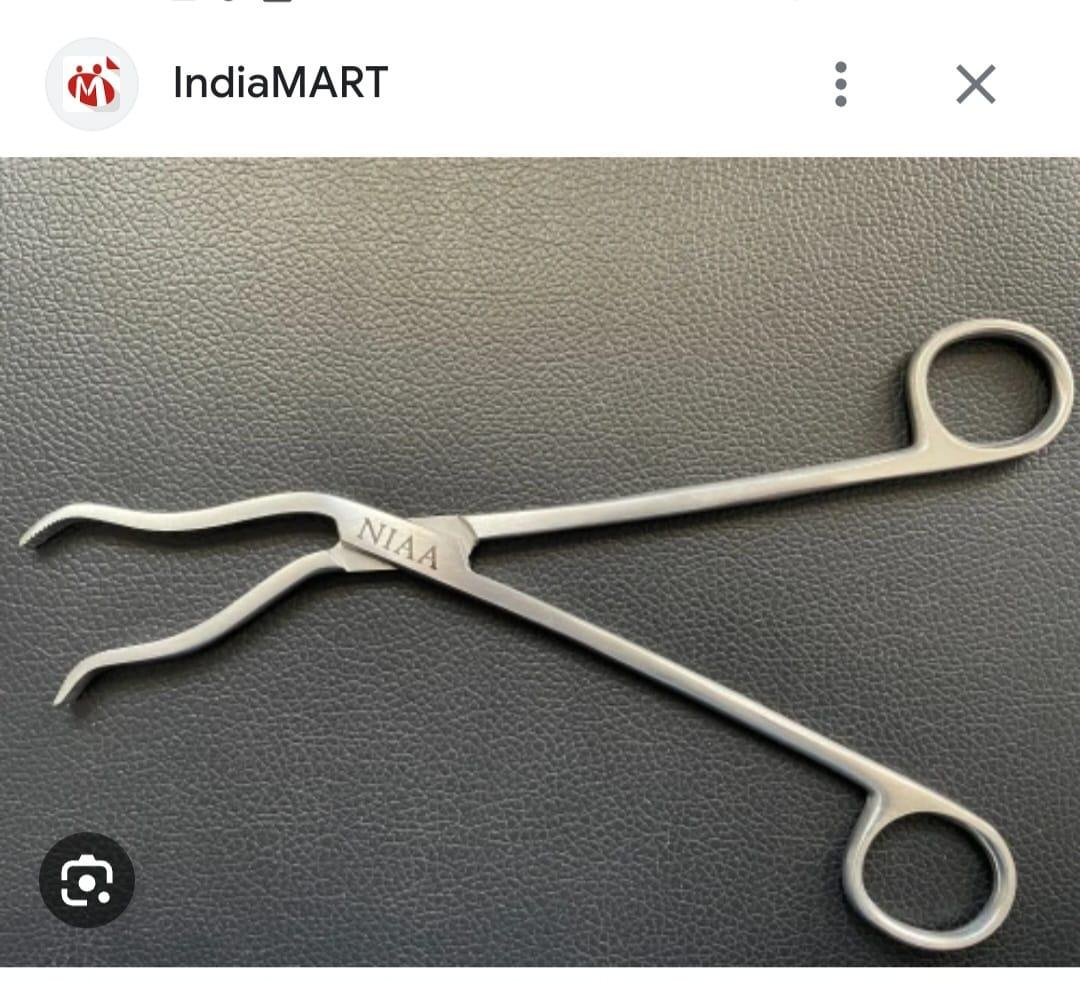Cheatle Forceps: (16, 311, 1070, 957)
